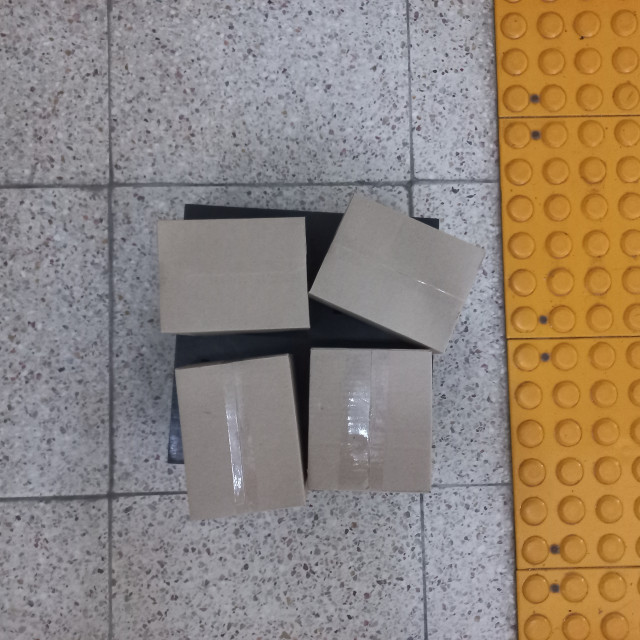box: (306, 189, 488, 356), (172, 349, 311, 526), (154, 211, 313, 339), (304, 344, 437, 497)
